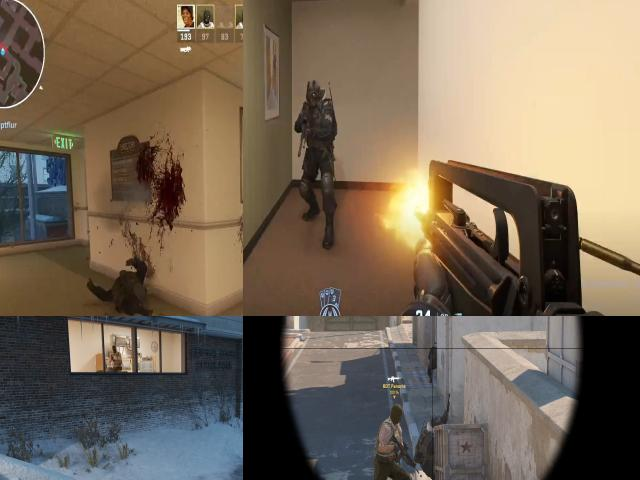CT: (301, 76, 335, 176), (415, 416, 434, 480), (306, 78, 325, 111), (426, 341, 436, 382)
CT-Head: (430, 415, 441, 425), (433, 342, 437, 348)
Dead: (101, 262, 158, 316)
T: (371, 402, 413, 480), (110, 344, 122, 370)
T-Head: (391, 405, 402, 422), (112, 345, 117, 352)
